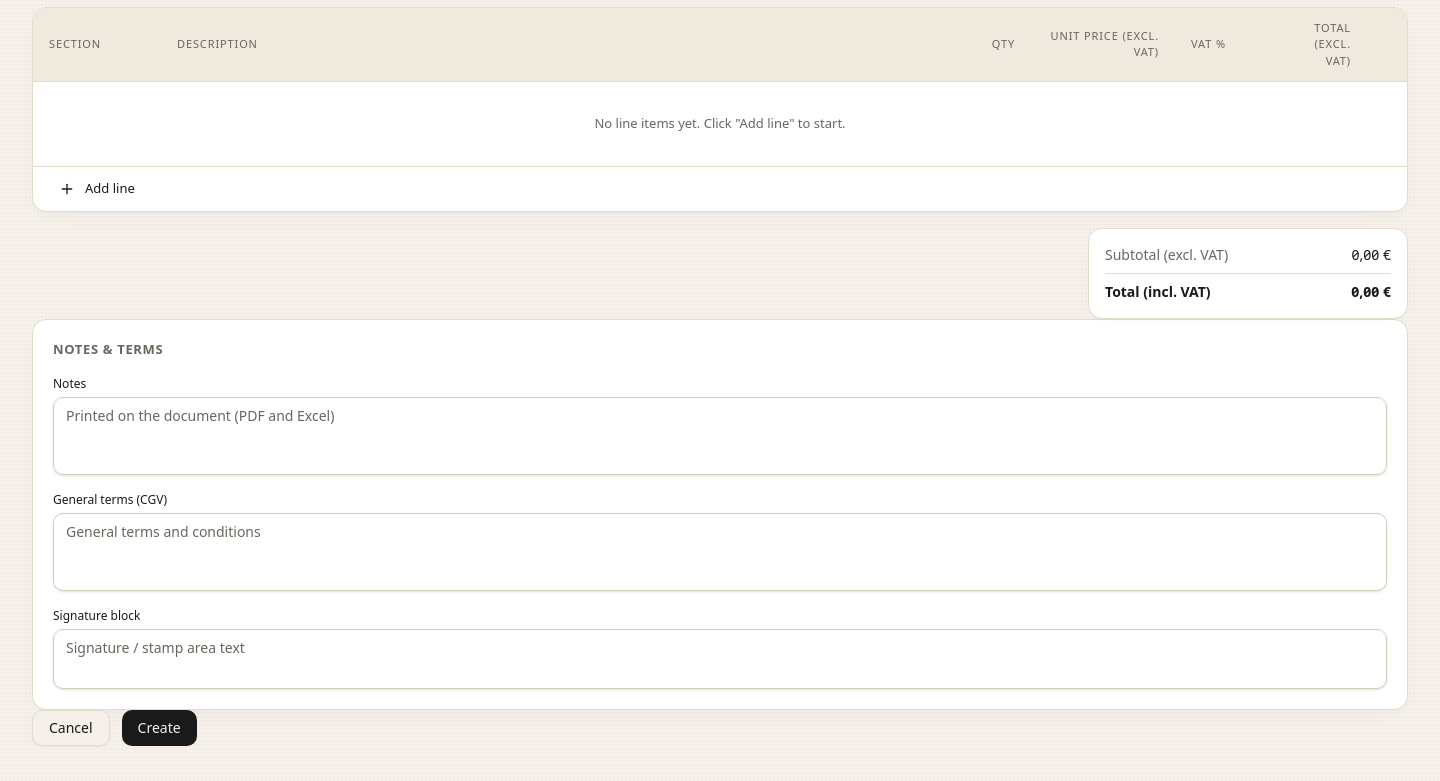
test_form_blank_create_calls_createBillingDocument_with_decimal_strings › shows validation error when recipient is empty on submit
(page scrolled)
Click the button "Create". click: (159, 728)
box: [122,710,197,746]
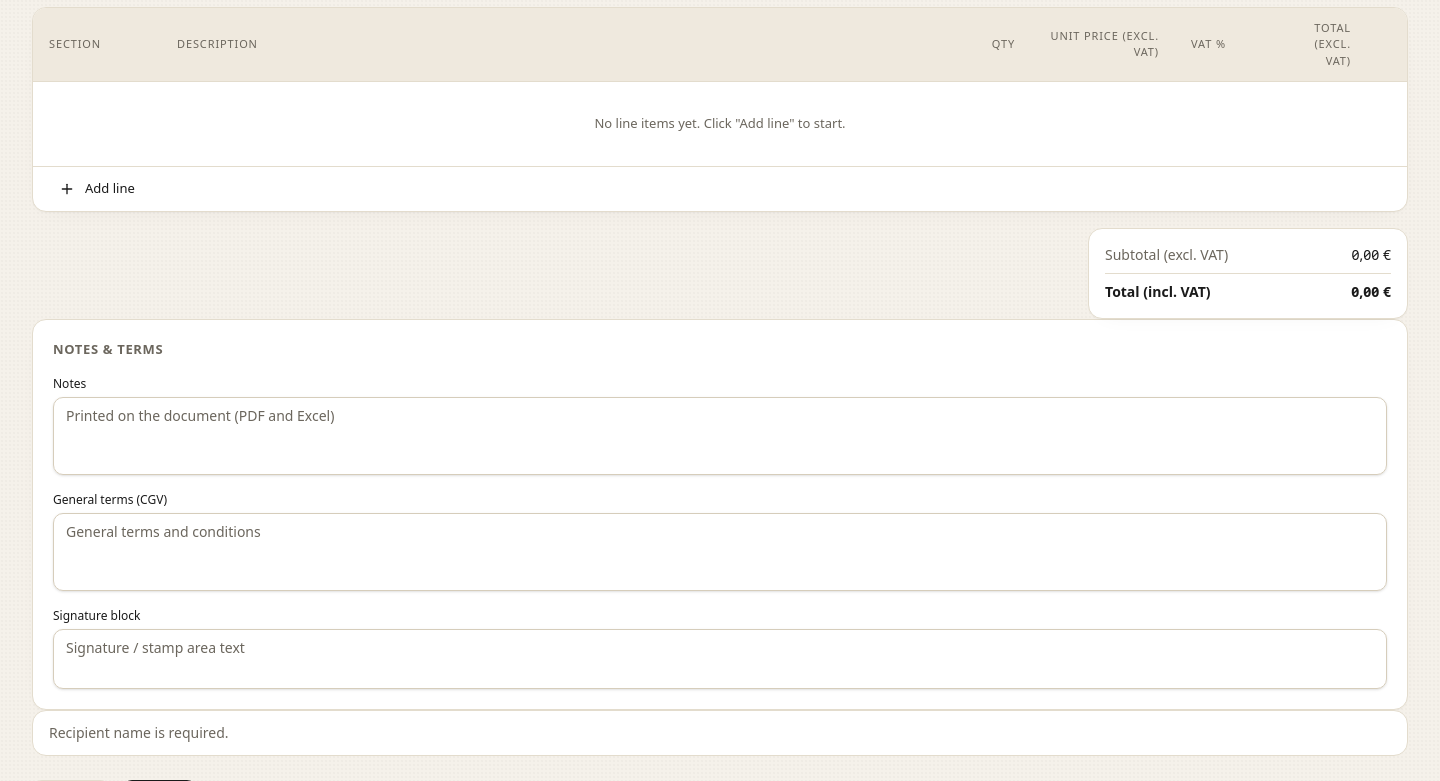
Expected: the text "Recipient name is required." is shown, [49,723,228,742]
